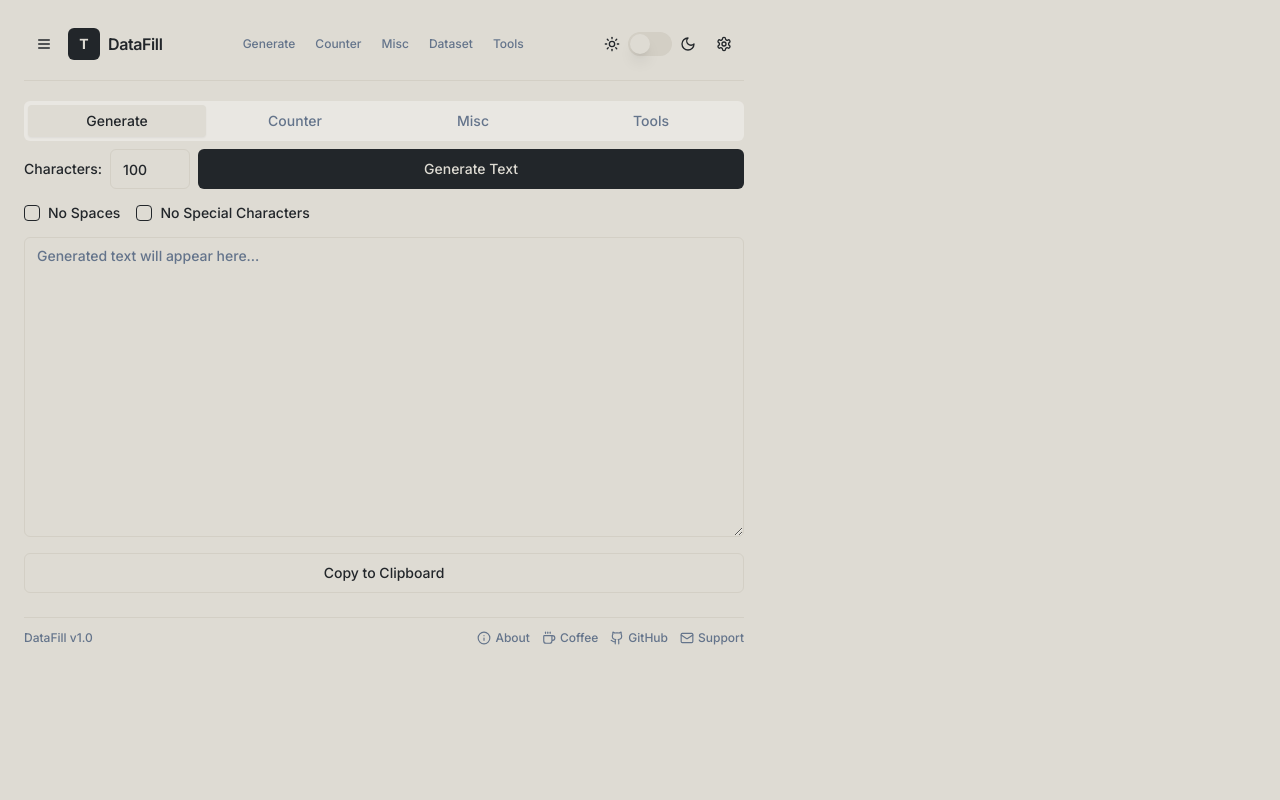
Test case: AppMenu hamburger navigation › renders a hamburger button that opens a dialog with every feature
The image size is (1280, 800).
What coordinates should you click on to do the following:
click the button named "Open menu"
I would click on:
 (44, 44)
Its box is 24,24 -> 64,64.
(page scrolled)
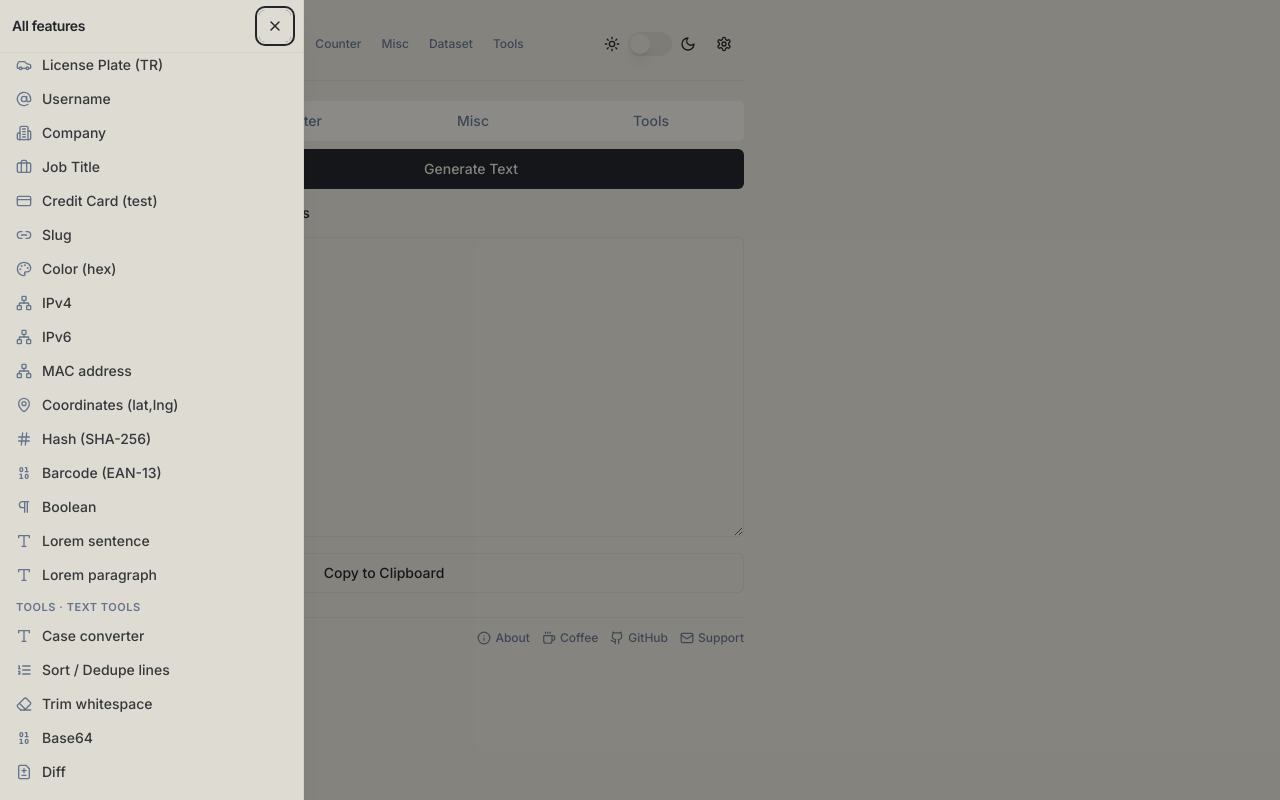
Expected: the button "License Plate (TR)" is shown, 8,53 -> 295,81
Expected: the button "Username" is shown, 8,83 -> 295,115
Expected: the button "Company" is shown, 8,117 -> 295,149
